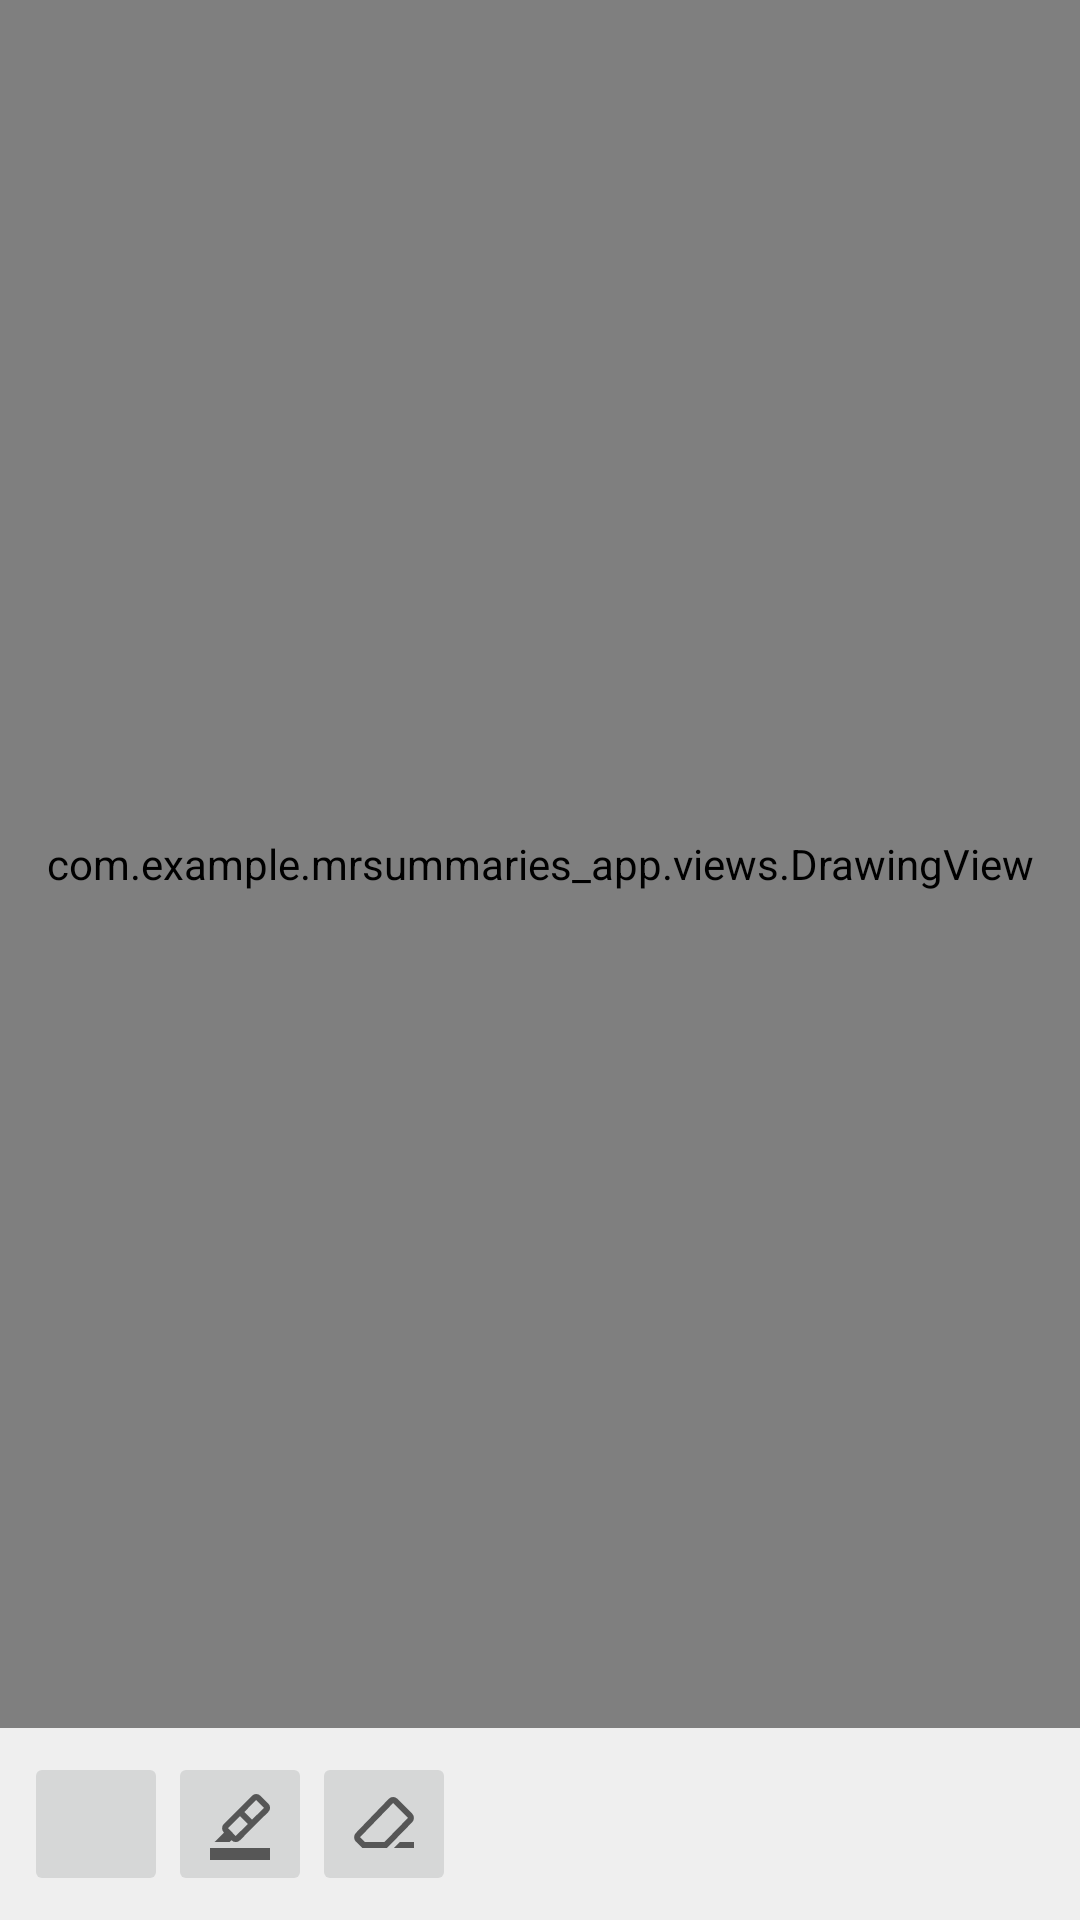

Icons on this 1080 × 1920 Android screen, each with the point to tap as [x,y]:
Eraser Tool: [384,1824]
Highlighter Tool: [240,1824]
